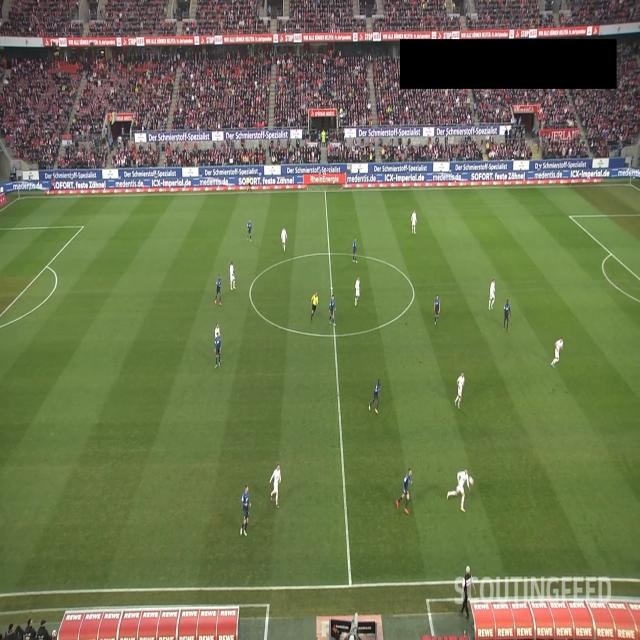ball: (468, 475, 474, 486)
